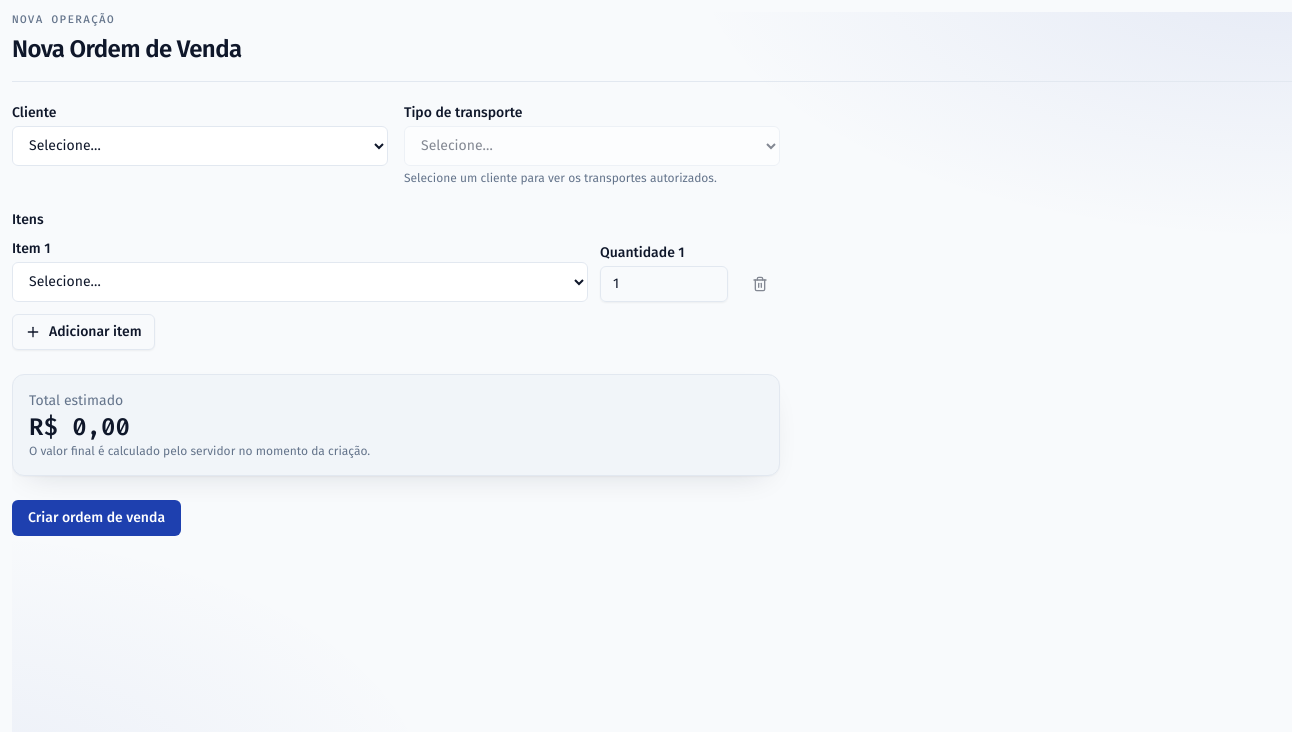
it: CreateSalesOrderPage › mostra erro no item quando ele não é selecionado e o formulário é submetido
Select "ACME" in the dropdown labelled "Cliente": (200, 146) [12,126,388,166]
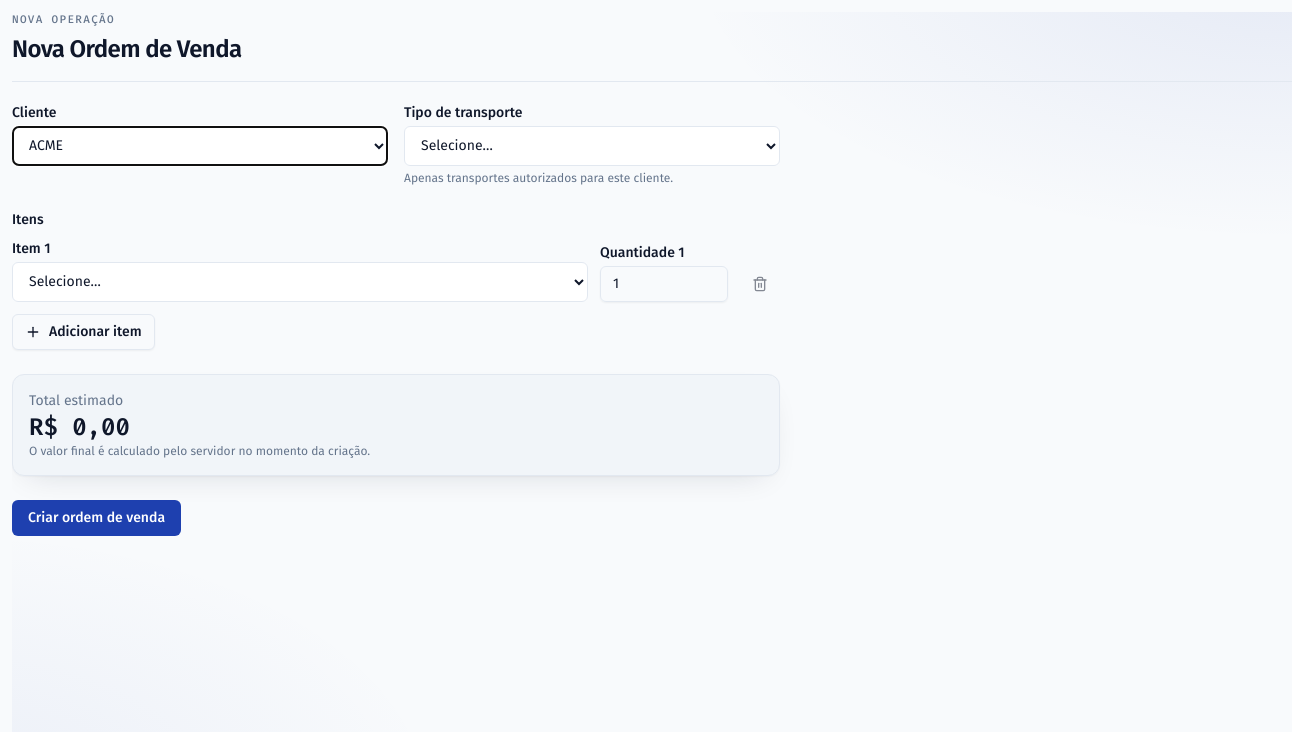
Check: the dropdown labelled "Tipo de transporte" is enabled
Select "Caminhão" in the dropdown labelled "Tipo de transporte": (592, 146) [404,126,780,166]
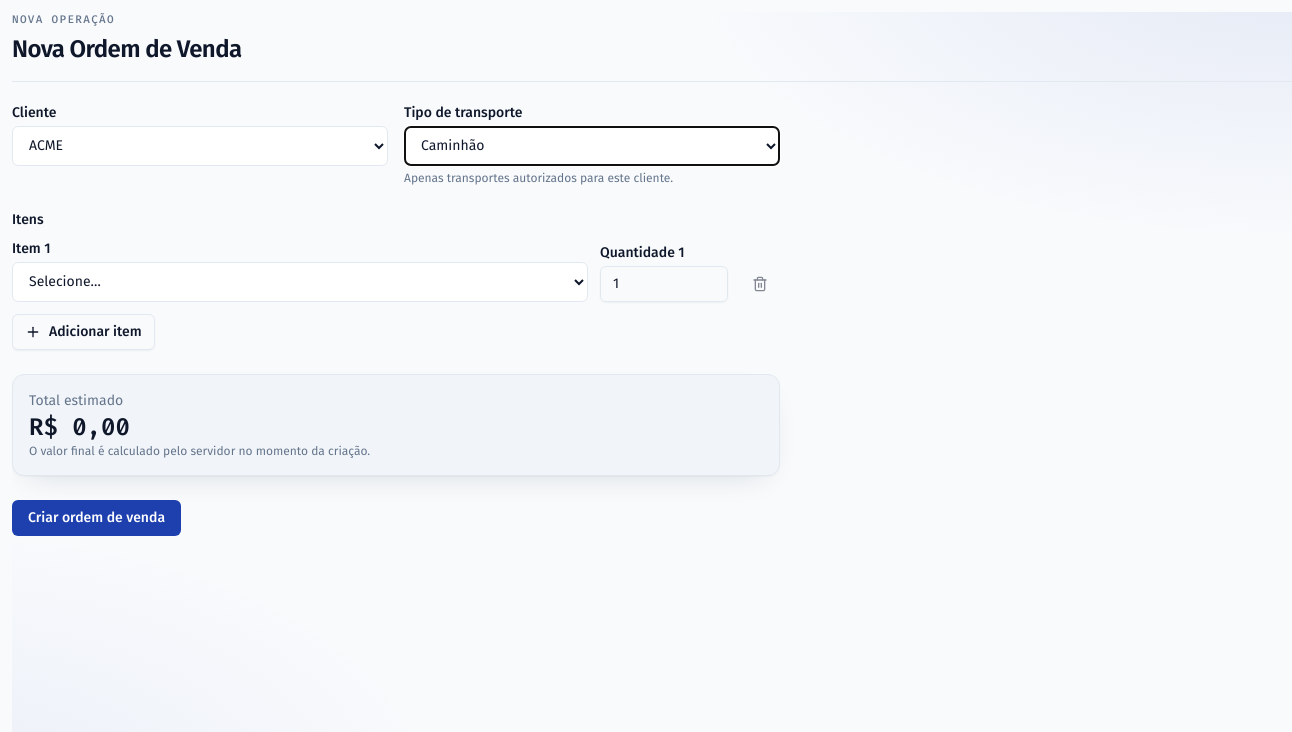
"Item 1" é deixado em "Selecione…" de propósito.
Click the button "Criar ordem de venda": (96, 518) [12,500,181,536]
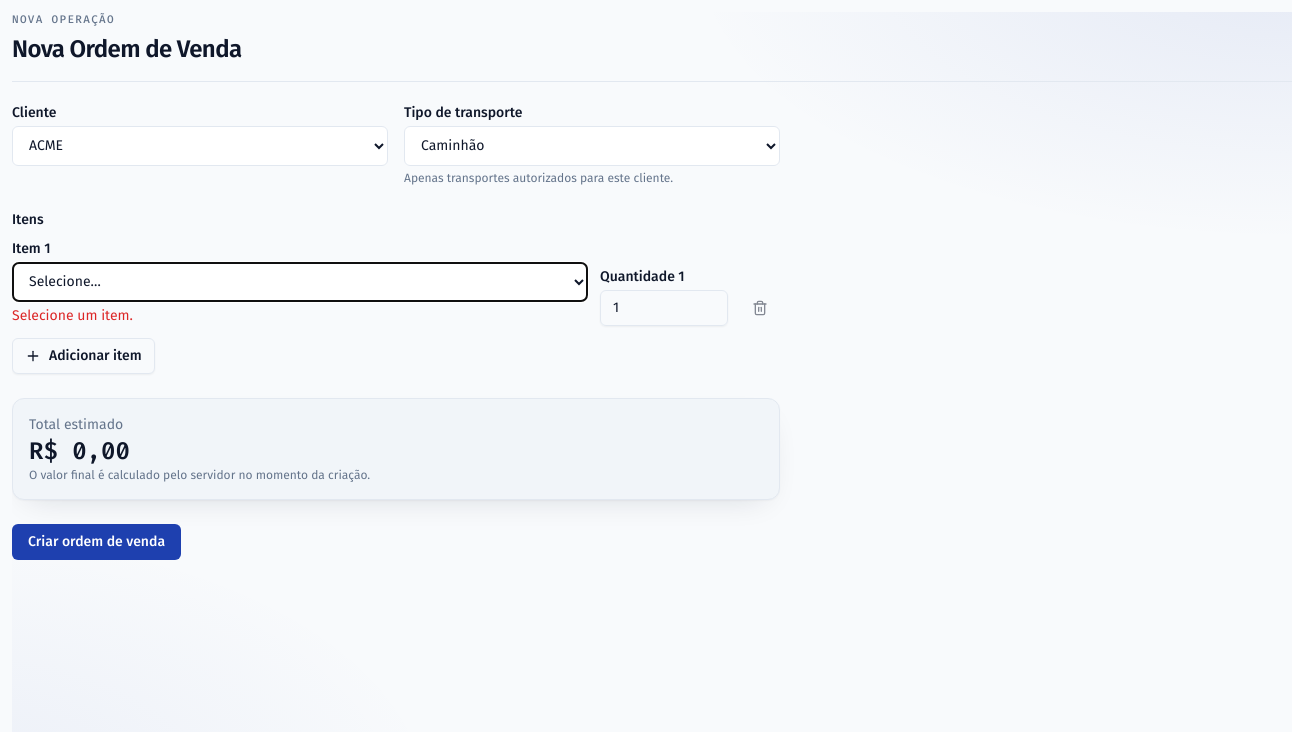
Check: the message shows "Selecione um item", box [12,306,133,324]
